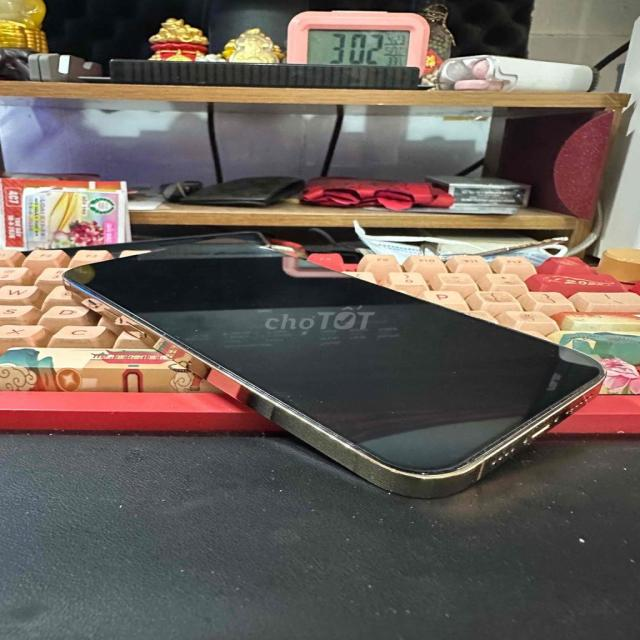gen_12_13: (61, 235, 606, 486)
